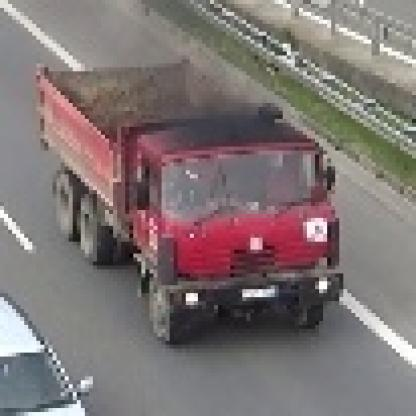truck: (29, 53, 336, 350)
